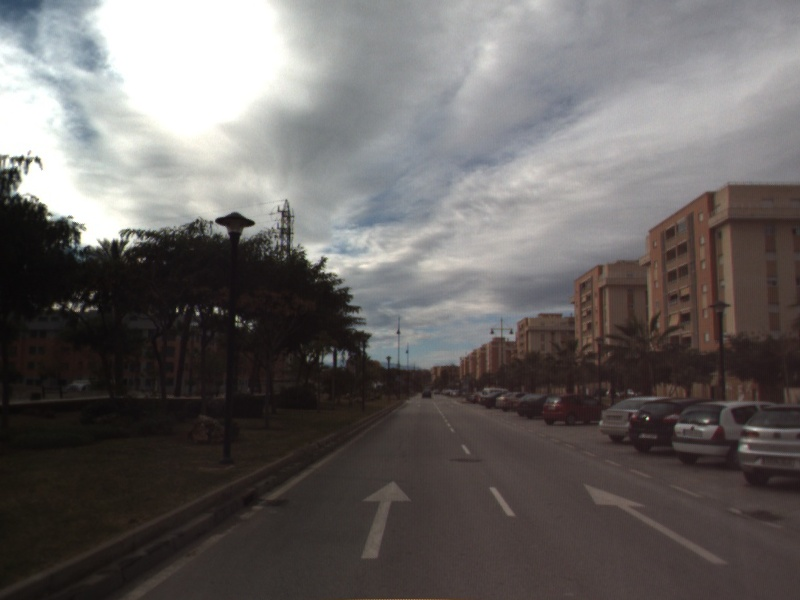STRAIGHT: (582, 482, 729, 566), (358, 478, 414, 560)
